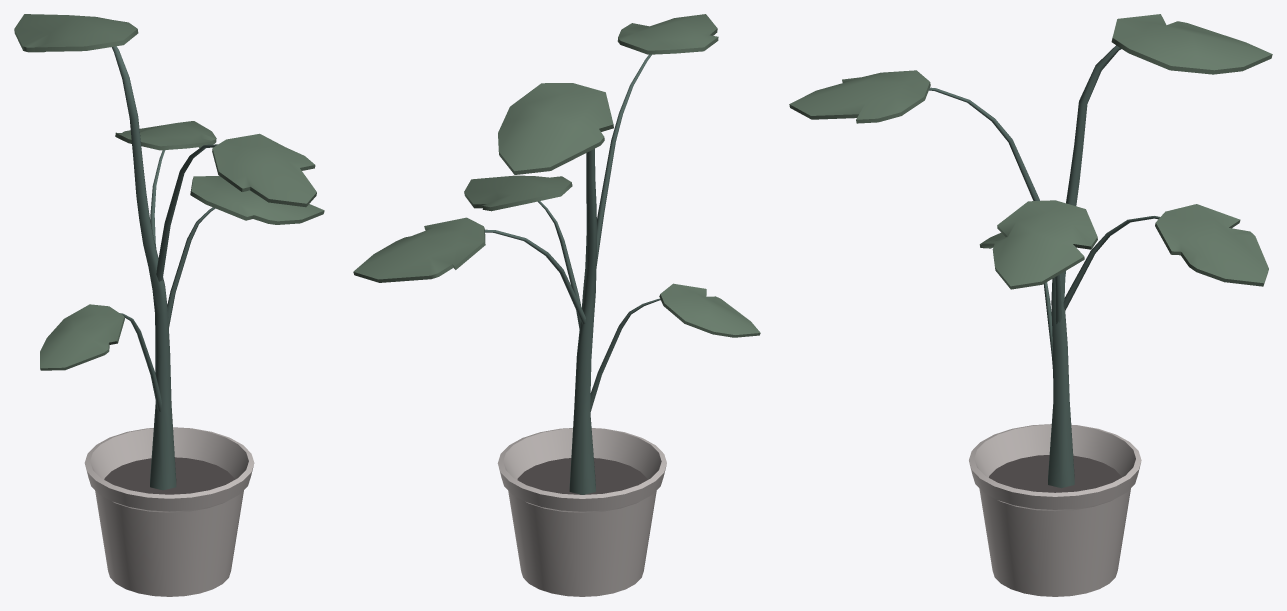
File: plant.fbx
3 renders of one model, left to right at view 1: azimuth 30°, elevation 25°; view 2: azimuth 150°, elevation 25°; view 3: azimuth 270°, elevation 25°, orthographic. The views are drawn at different scales.
Visible parts, largest first — view 1: plant; view 2: plant; view 3: plant.
Boxes of the visible parts, box(x1,y1,x2,y2) form: plant: box(14, 14, 324, 596); plant: box(353, 14, 760, 596); plant: box(789, 14, 1272, 596).
Bounding box in the file's own units: 55.55 × 95.16 × 79.42.
